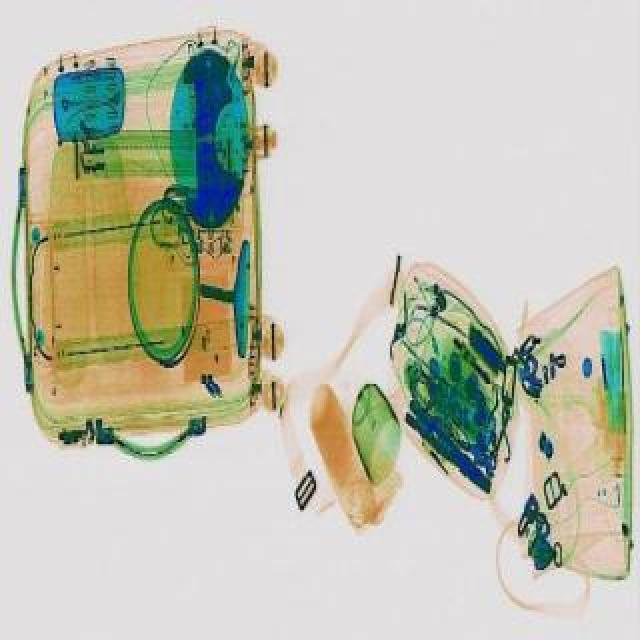wrench: (396, 396, 500, 496)
